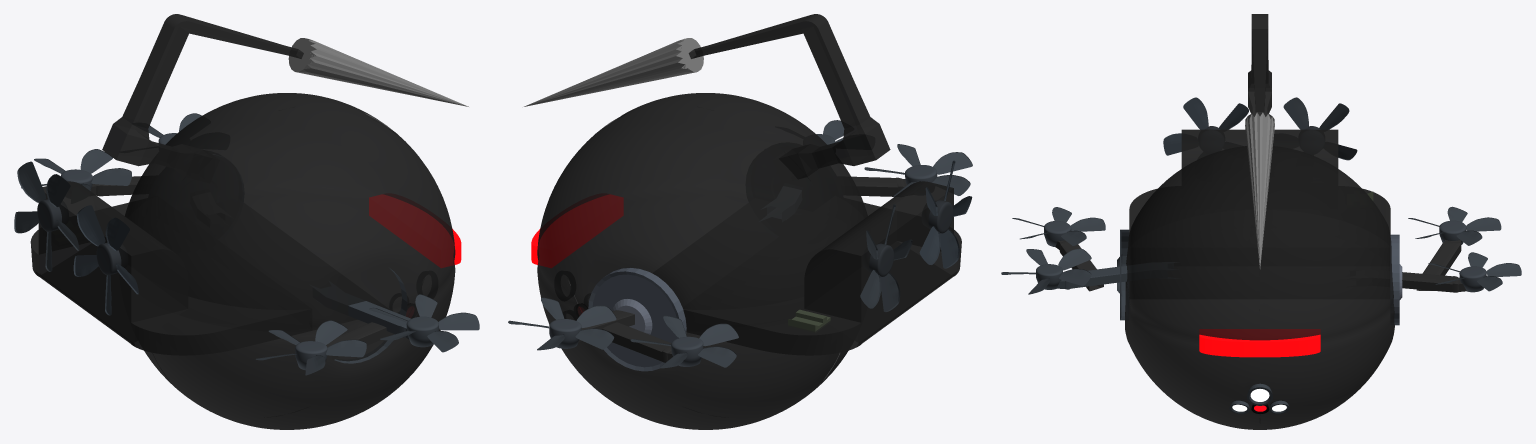
The model's file is FixedDrone.glb.
The picture shows the model from 3 angles, left to right: view 1: azimuth 30°, elevation 25°; view 2: azimuth 150°, elevation 25°; view 3: azimuth 270°, elevation 25°; orthographic projection. The views are drawn at different scales.
Parts seen in each view (by area): view 1: Sphere.001, Sphere, Plane.001, Cube.004, Cone, Plane, Cylinder.005, Cylinder.008, Cube.001, Cylinder.004, Cylinder.011, Cylinder.010 (+8 smaller); view 2: Sphere, Sphere.001, Plane.001, Cube.004, Circle, Cone, Plane, Cylinder.010, Cylinder.001, Cylinder.005, Cylinder.008, Cylinder.011 (+10 smaller); view 3: Sphere.001, Sphere, Plane.001, Plane, Cone, Cube.004, Cube, Cube.001, Cylinder.004, Cylinder.008, Cylinder.005, Cylinder.001 (+10 smaller).
Part boxes in pixels (<box>): Sphere.001: <box>152,104,455,429</box>; Sphere: <box>125,93,431,417</box>; Plane.001: <box>30,181,389,355</box>; Cube.004: <box>102,14,303,182</box>; Cone: <box>288,38,468,106</box>; Plane: <box>369,194,461,267</box>; Cylinder.005: <box>14,161,79,271</box>; Cylinder.008: <box>73,205,138,315</box>; Cube.001: <box>310,281,410,339</box>; Cylinder.004: <box>369,294,479,352</box>; Cylinder.011: <box>255,320,366,375</box>; Cylinder.010: <box>21,149,131,190</box>; Sphere: <box>537,104,840,429</box>; Sphere.001: <box>560,93,867,417</box>; Plane.001: <box>653,181,961,355</box>; Cube.004: <box>688,14,890,182</box>; Circle: <box>588,267,686,371</box>; Cone: <box>524,38,703,106</box>; Plane: <box>531,194,623,267</box>; Cylinder.010: <box>630,315,738,368</box>; Cylinder.001: <box>508,297,616,350</box>; Cylinder.005: <box>860,204,912,311</box>; Cylinder.008: <box>919,160,972,268</box>; Cylinder.011: <box>864,144,972,196</box>; Sphere.001: <box>1125,146,1259,429</box>; Sphere: <box>1260,146,1394,429</box>; Plane.001: <box>1129,129,1390,298</box>; Plane: <box>1199,329,1320,357</box>; Cone: <box>1245,112,1274,269</box>; Cube.004: <box>1248,14,1271,113</box>; Cube: <box>1346,270,1466,292</box>; Cube.001: <box>1056,262,1177,289</box>; Cylinder.004: <box>1001,248,1091,294</box>; Cylinder.008: <box>1163,97,1248,155</box>; Cylinder.005: <box>1283,97,1357,160</box>; Cylinder.001: <box>1428,252,1521,291</box>.
Size of the model in its own units: 1.66 by 1.66 by 2.2.
